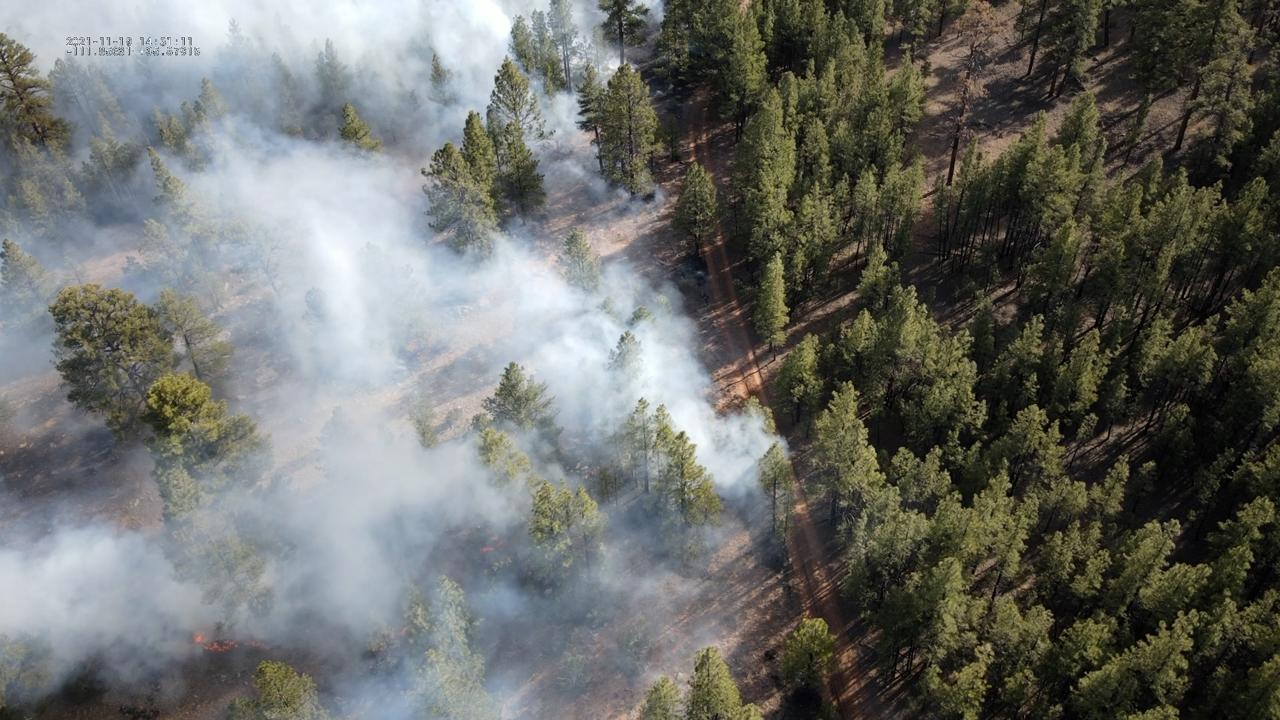fire: (188, 631, 275, 657), (479, 542, 496, 555)
smoke: (0, 0, 792, 720)
